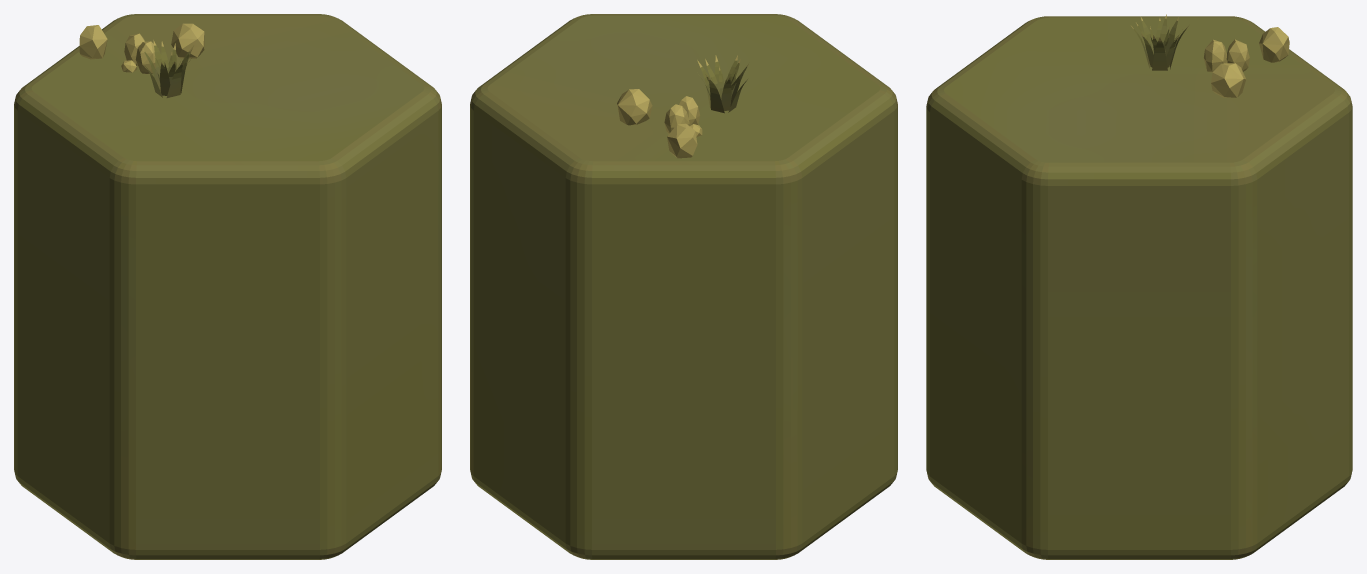
Rendered from Hex-marais2.glb.
3 renders of one model, left to right at view 1: azimuth 30°, elevation 25°; view 2: azimuth 150°, elevation 25°; view 3: azimuth 270°, elevation 25°, orthographic.
Parts seen in each view (by area): view 1: Cylinder, Plane.096_Material.001_0, Icosphere.013_Material.001_0, Icosphere.012_Material.001_0, Icosphere.022_Material.001_0; view 2: Cylinder, Plane.096_Material.001_0, Icosphere.012_Material.001_0, Icosphere.013_Material.001_0, Icosphere.022_Material.001_0; view 3: Cylinder, Plane.096_Material.001_0, Icosphere.013_Material.001_0, Icosphere.012_Material.001_0, Icosphere.022_Material.001_0.
Part boxes in pixels (<box>): Cylinder: <box>14,14,441,559</box>; Plane.096_Material.001_0: <box>142,40,193,97</box>; Icosphere.013_Material.001_0: <box>121,33,155,73</box>; Icosphere.012_Material.001_0: <box>171,23,204,58</box>; Icosphere.022_Material.001_0: <box>79,25,107,59</box>; Cylinder: <box>470,14,897,559</box>; Plane.096_Material.001_0: <box>697,55,748,113</box>; Icosphere.012_Material.001_0: <box>617,89,652,125</box>; Icosphere.013_Material.001_0: <box>664,96,702,136</box>; Icosphere.022_Material.001_0: <box>667,123,697,158</box>; Cylinder: <box>926,16,1352,559</box>; Plane.096_Material.001_0: <box>1131,14,1188,70</box>; Icosphere.013_Material.001_0: <box>1204,39,1249,72</box>; Icosphere.012_Material.001_0: <box>1211,63,1246,97</box>; Icosphere.022_Material.001_0: <box>1259,27,1289,62</box>.
Bounding box in the file's own units: 1.73 × 2.21 × 1.95.
Materials: 2 (2 with a texture image).
